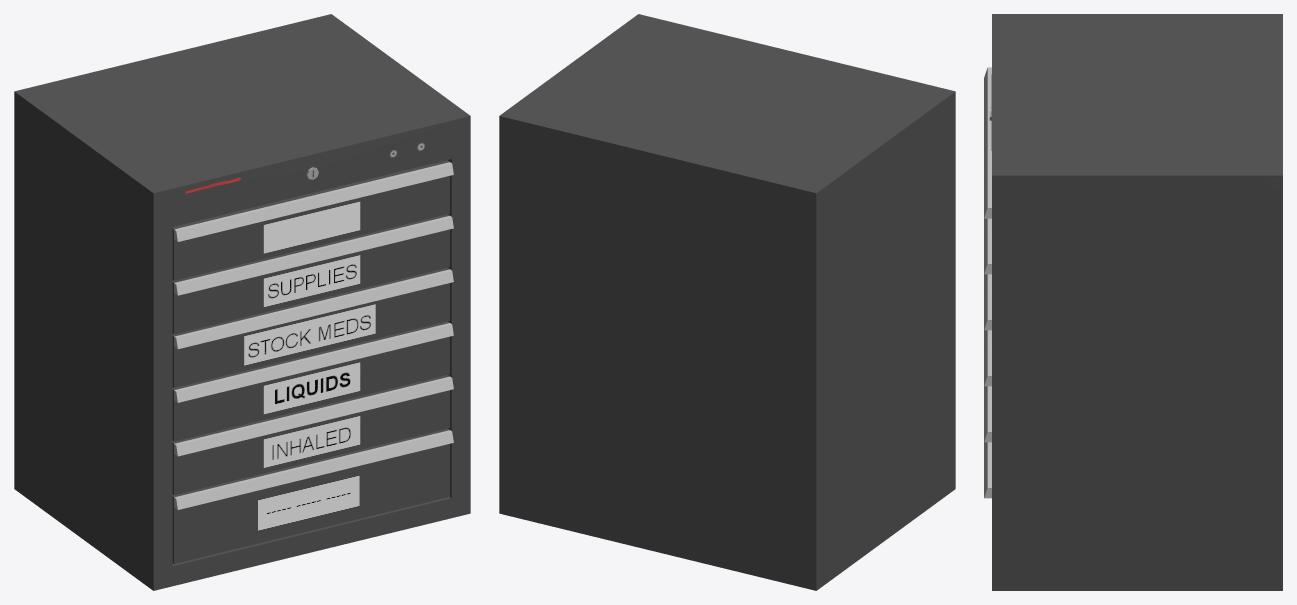
The model's file is medcart5.fbx.
3 views of the same model, side by side, from view 1: azimuth 30°, elevation 25°; view 2: azimuth 150°, elevation 25°; view 3: azimuth 270°, elevation 25° (orthographic). The views are drawn at different scales.
Visible parts, largest first — view 1: Cart, Drawer.005, Drawer, Drawer.006, Drawer.002, Drawer.003, Drawer.001; view 2: Cart; view 3: Cart, Drawer, Drawer.005, Drawer.006, Drawer.001, Drawer.002, Drawer.003.
Boxes of the visible parts, bbox=[...] form: Cart: bbox=[14, 14, 470, 590]; Drawer.005: bbox=[172, 428, 453, 563]; Drawer: bbox=[172, 160, 453, 280]; Drawer.006: bbox=[172, 214, 453, 334]; Drawer.002: bbox=[172, 321, 453, 441]; Drawer.003: bbox=[172, 375, 453, 495]; Drawer.001: bbox=[172, 267, 453, 387]; Cart: bbox=[499, 14, 955, 590]; Cart: bbox=[989, 14, 1282, 590]; Drawer: bbox=[984, 67, 991, 218]; Drawer.005: bbox=[984, 442, 991, 498]; Drawer.006: bbox=[984, 218, 991, 274]; Drawer.001: bbox=[984, 274, 991, 330]; Drawer.002: bbox=[984, 330, 991, 386]; Drawer.003: bbox=[984, 386, 991, 442].
Size of the model in its own units: 96 by 115 by 74.99.
